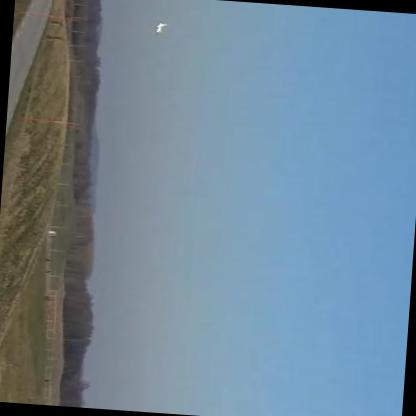plane: (154, 22, 168, 37)
